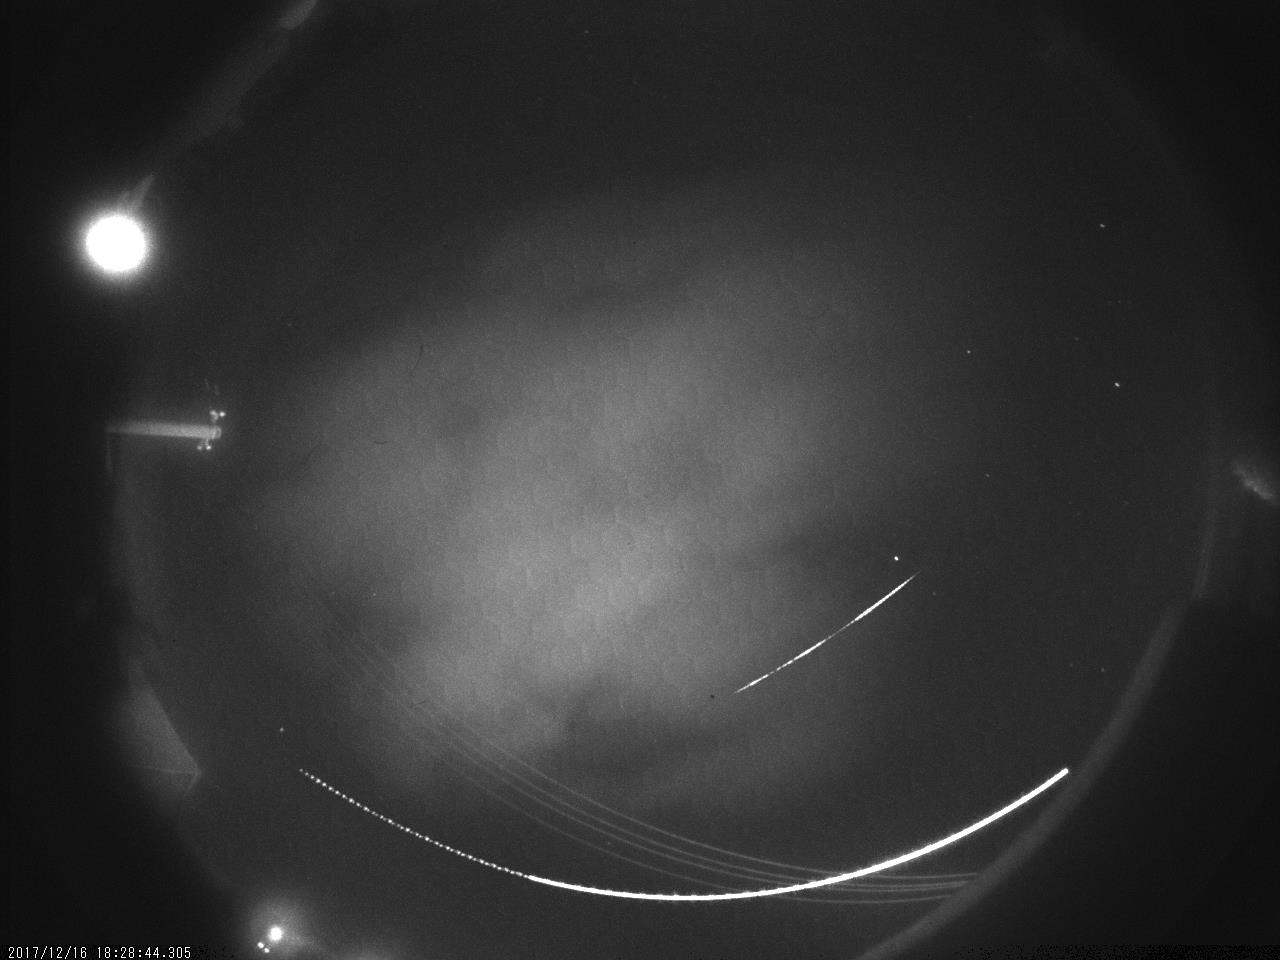meteor: (722, 561, 933, 711)
